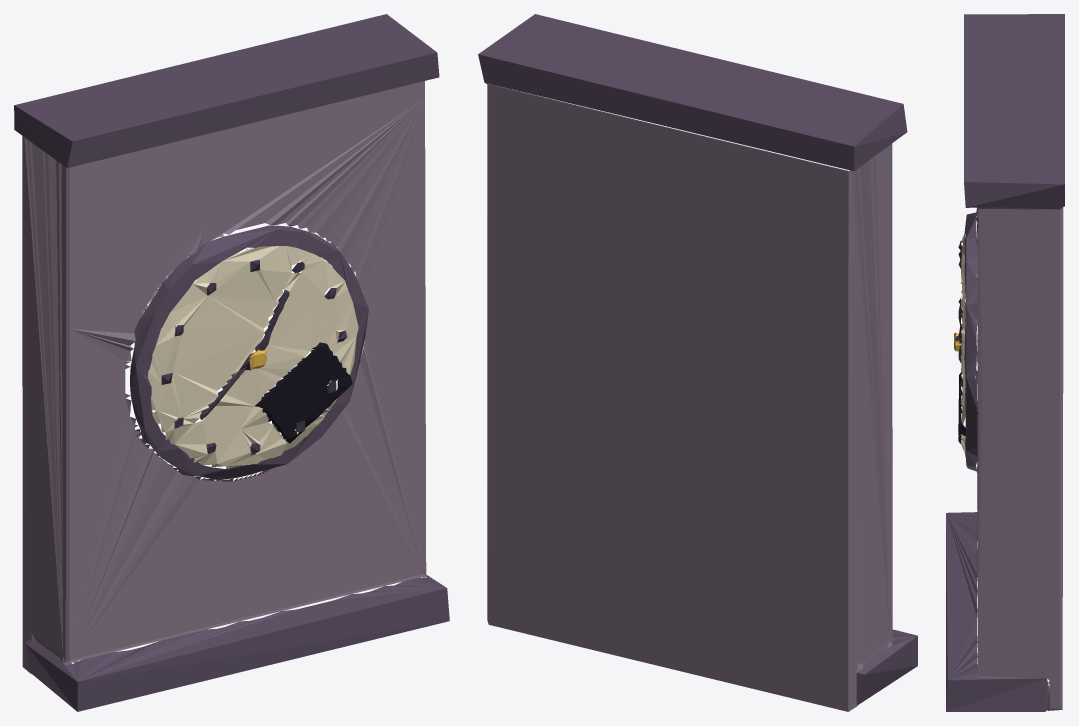
File: broken_clock.glb
3 renders of one model, left to right at view 1: azimuth 30°, elevation 25°; view 2: azimuth 150°, elevation 25°; view 3: azimuth 270°, elevation 25°, orthographic. The views are drawn at different scales.
Visible parts, largest first — view 1: broken_clock; view 2: broken_clock; view 3: broken_clock.
Boxes of the visible parts, box(x1,y1,x2,y2) form: broken_clock: box(14, 14, 449, 711); broken_clock: box(478, 14, 917, 711); broken_clock: box(946, 14, 1064, 711).
Size of the model in its own units: 3.32 by 4.81 by 0.9762.
